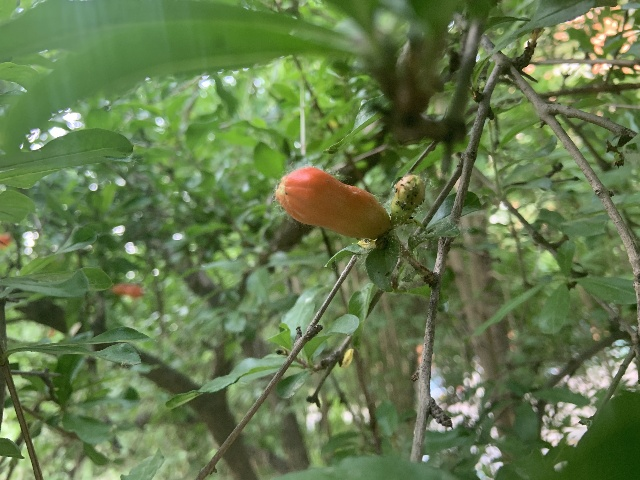bud: (277, 166, 388, 237), (391, 175, 424, 227)
